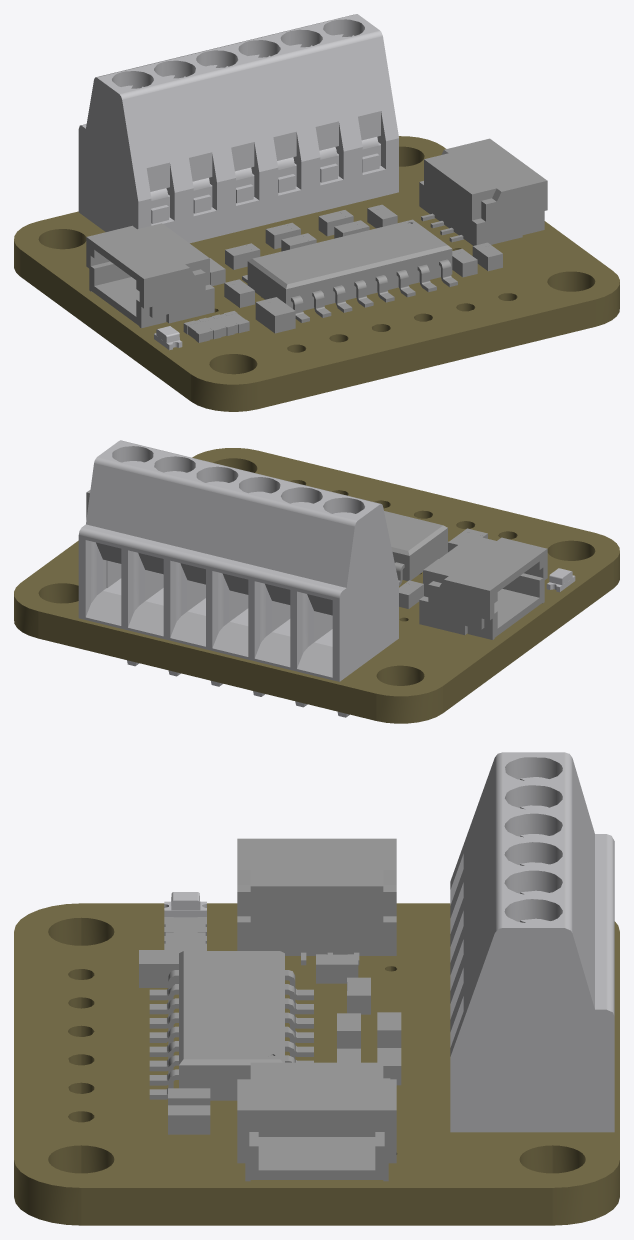
File: ada-4538.glb
3 renders of one model, top to bottom at view 1: azimuth 30°, elevation 25°; view 2: azimuth 150°, elevation 25°; view 3: azimuth 270°, elevation 25°, orthographic. The views are drawn at different scales.
Visible parts, largest first — view 1: 0.5833333333333334_0.5833333333333334_0.5833333333333334_0.8, 0.16666666666666666_0.16666666666666666_0.08333333333333333_, 0.3333333333333333_0.3333333333333333_0.3333333333333333_0; view 2: 0.5833333333333334_0.5833333333333334_0.5833333333333334_0.8, 0.16666666666666666_0.16666666666666666_0.08333333333333333_, 0.3333333333333333_0.3333333333333333_0.3333333333333333_0; view 3: 0.16666666666666666_0.16666666666666666_0.08333333333333333_, 0.3333333333333333_0.3333333333333333_0.3333333333333333_0, 0.5833333333333334_0.5833333333333334_0.5833333333333334_0.8.
Boxes of the visible parts, box(x1,y1,x2,y2) form: 0.5833333333333334_0.5833333333333334_0.5833333333333334_0.8: box(78, 14, 398, 350); 0.16666666666666666_0.16666666666666666_0.08333333333333333_: box(14, 136, 619, 411); 0.3333333333333333_0.3333333333333333_0.3333333333333333_0: box(86, 138, 547, 342); 0.5833333333333334_0.5833333333333334_0.5833333333333334_0.8: box(78, 440, 575, 717); 0.16666666666666666_0.16666666666666666_0.08333333333333333_: box(14, 448, 619, 723); 0.3333333333333333_0.3333333333333333_0.3333333333333333_0: box(86, 490, 547, 639); 0.16666666666666666_0.16666666666666666_0.08333333333333333_: box(14, 903, 619, 1225); 0.3333333333333333_0.3333333333333333_0.3333333333333333_0: box(139, 838, 401, 1181); 0.5833333333333334_0.5833333333333334_0.5833333333333334_0.8: box(164, 752, 614, 1132).
Size of the model in its own units: 2.54 by 1.2 by 2.29.
